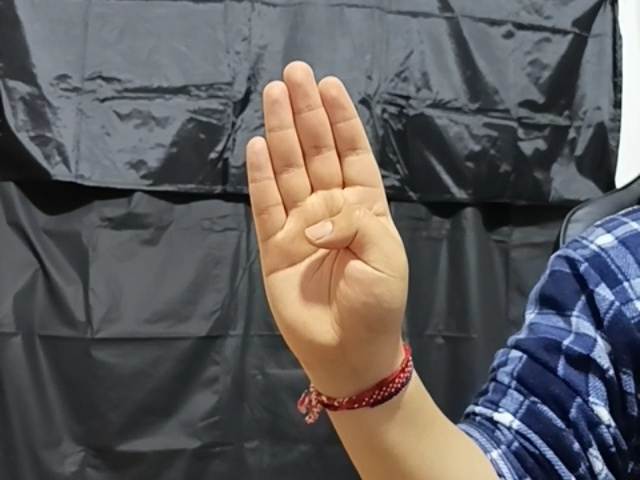B: (236, 56, 426, 363)
